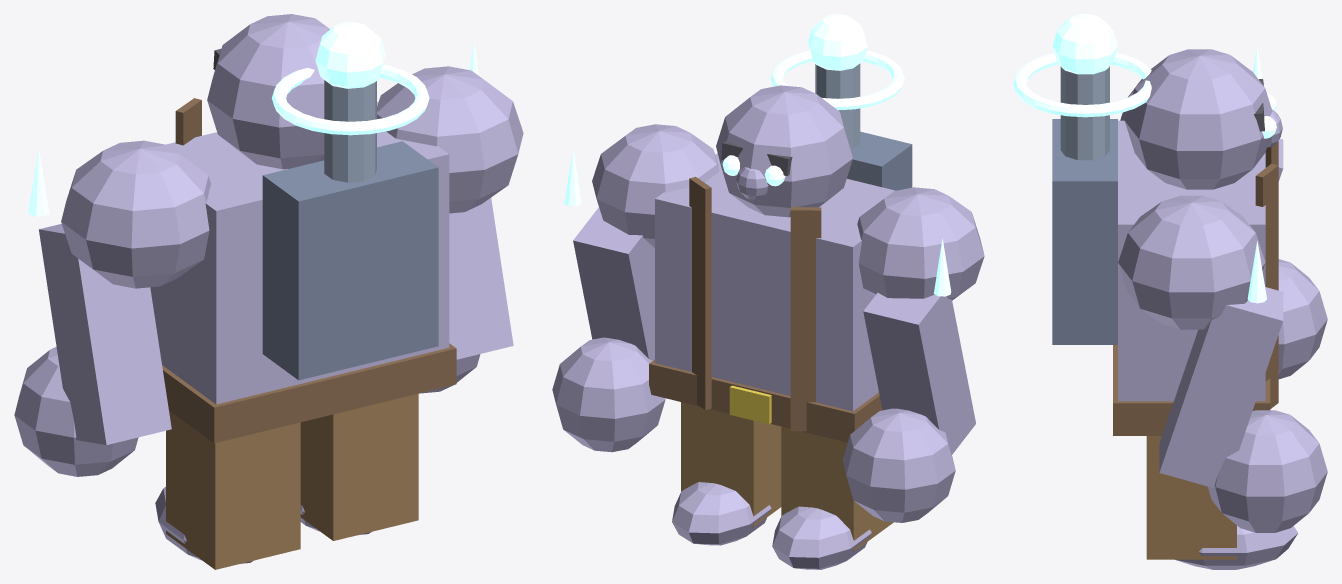
Rendered from electro_giant.glb.
3 renders of one model, left to right at view 1: azimuth 30°, elevation 25°; view 2: azimuth 150°, elevation 25°; view 3: azimuth 270°, elevation 25°, orthographic. The views are drawn at different scales.
Visible parts, largest first — view 1: electro_giant; view 2: electro_giant; view 3: electro_giant.
Boxes of the visible parts, box(x1,y1,x2,y2) form: electro_giant: box(14, 14, 523, 569); electro_giant: box(552, 14, 984, 569); electro_giant: box(1013, 14, 1327, 569).
Bounding box in the file's own units: 3.8 × 4.56 × 2.5.
